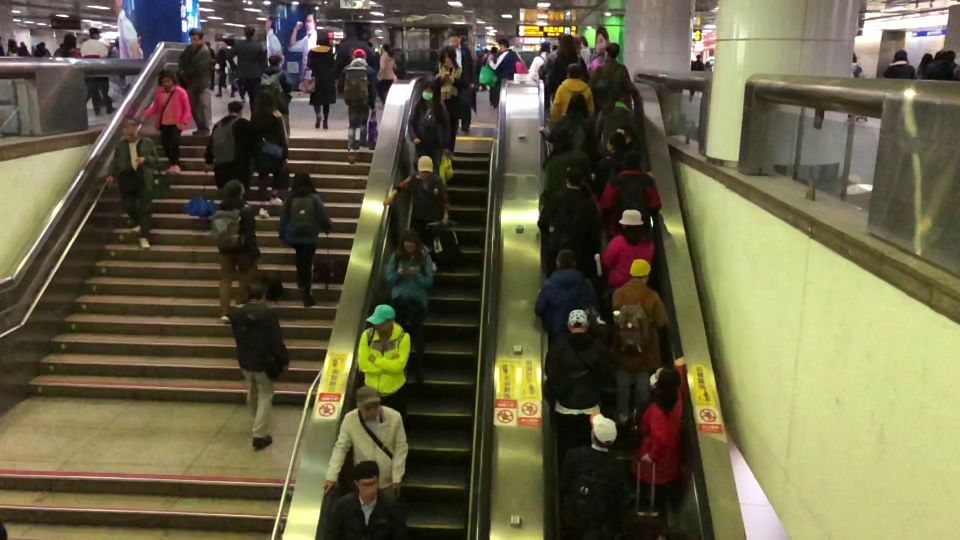person_head: (351, 460, 379, 502), (589, 412, 617, 449), (366, 303, 396, 334), (355, 385, 381, 418), (649, 365, 680, 391), (619, 208, 645, 235), (564, 93, 589, 118), (399, 228, 420, 257), (629, 256, 652, 282), (565, 307, 588, 333), (221, 178, 245, 200), (292, 168, 314, 192), (555, 248, 577, 272), (246, 279, 266, 302), (606, 131, 626, 154), (120, 118, 139, 142), (553, 126, 572, 149), (564, 165, 583, 188), (421, 80, 440, 102), (416, 154, 434, 177), (621, 150, 641, 170), (437, 44, 456, 65), (158, 68, 176, 88), (225, 99, 244, 116), (604, 42, 621, 60), (258, 90, 275, 107), (566, 62, 582, 80), (609, 85, 625, 103), (558, 34, 573, 53), (188, 28, 204, 44), (893, 48, 909, 63), (919, 53, 934, 68), (448, 32, 462, 48), (351, 46, 366, 60), (267, 53, 283, 66), (316, 31, 329, 46), (243, 25, 256, 39), (63, 34, 75, 49), (88, 27, 101, 40), (497, 38, 508, 51), (934, 51, 946, 62), (8, 38, 17, 49), (222, 37, 231, 47), (381, 43, 390, 53), (596, 47, 605, 56), (539, 44, 549, 52), (36, 41, 47, 48), (695, 53, 700, 61), (852, 53, 856, 63)
person_vbox: (629, 356, 686, 539), (231, 279, 291, 450), (609, 256, 668, 424), (323, 384, 409, 499), (542, 309, 609, 451), (559, 412, 629, 540), (382, 155, 451, 272), (383, 227, 434, 384), (209, 179, 263, 323), (278, 168, 332, 311), (104, 118, 160, 249), (597, 148, 663, 241), (534, 247, 597, 343), (331, 460, 406, 540), (357, 303, 411, 413), (536, 165, 599, 255), (141, 67, 192, 175), (250, 89, 288, 220), (600, 209, 655, 294), (176, 27, 215, 137), (204, 99, 252, 188), (594, 131, 655, 196), (341, 47, 378, 154), (434, 44, 465, 162), (542, 125, 593, 196), (407, 80, 451, 162), (536, 92, 594, 152), (305, 31, 337, 130), (593, 85, 638, 152), (80, 25, 114, 113), (447, 31, 475, 132), (260, 53, 293, 137), (590, 42, 632, 105), (235, 25, 266, 107), (550, 63, 595, 119), (550, 35, 588, 91), (488, 39, 523, 81), (215, 36, 235, 98), (376, 43, 397, 102), (847, 53, 865, 120), (882, 47, 914, 80), (688, 53, 705, 103), (925, 51, 952, 81), (529, 44, 550, 80), (56, 35, 79, 59), (7, 39, 19, 57), (35, 41, 48, 56)
